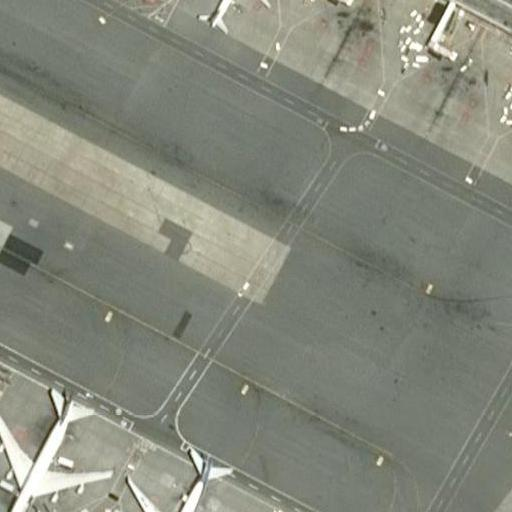Aircraft: (0, 382, 114, 512), (125, 442, 251, 512), (192, 0, 271, 36)
